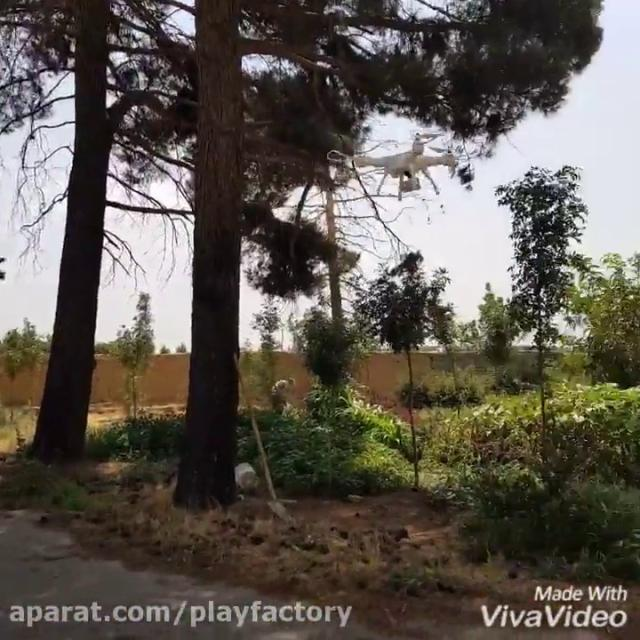drone: (325, 129, 463, 202)
